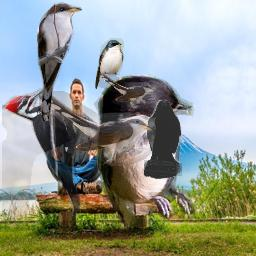Crow: (144, 100, 182, 180)
Cuckoo: (39, 91, 156, 166), (36, 2, 82, 121), (97, 71, 156, 109)
Swallow: (94, 71, 198, 227), (95, 38, 124, 89)
Woodpecker: (2, 88, 92, 221)
